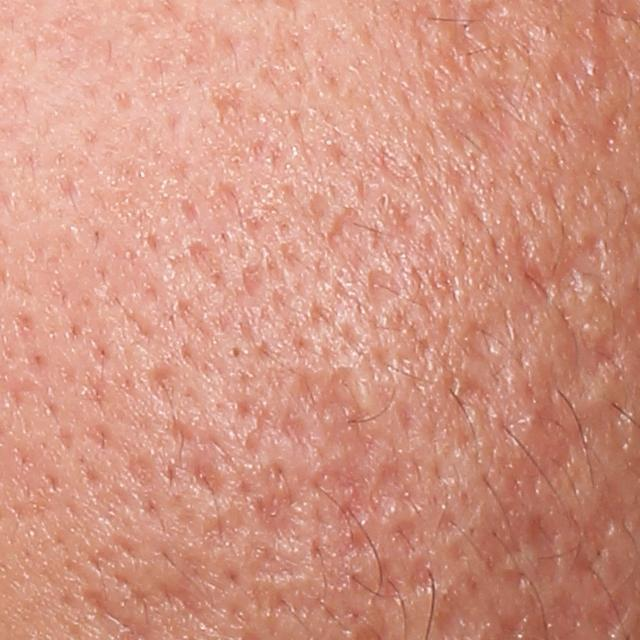atrophic_scar: (482, 403, 639, 564), (311, 364, 377, 526), (514, 234, 611, 309), (542, 323, 627, 403), (239, 580, 363, 627), (435, 98, 518, 166), (462, 302, 526, 365), (367, 460, 419, 521), (251, 462, 295, 534), (349, 555, 406, 610), (588, 14, 623, 92), (437, 367, 491, 415), (198, 504, 249, 552), (525, 518, 560, 587), (387, 512, 433, 562), (187, 240, 228, 292), (586, 594, 633, 638), (365, 268, 405, 310), (325, 205, 361, 250), (186, 457, 224, 497), (407, 554, 442, 594), (601, 112, 628, 159), (241, 260, 265, 302)
